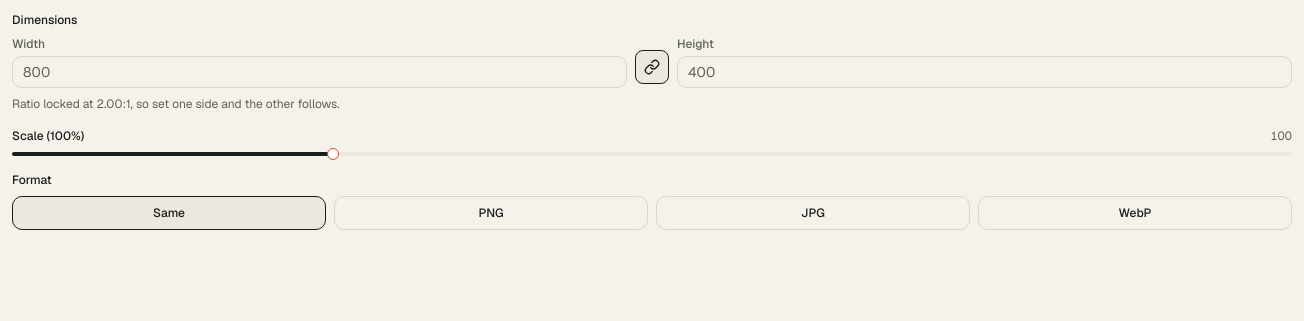
ResizeOptions › offers fit modes only when the ratio is free to change
This screenshot has width=1304, height=321.
Expected: the text "Fit" is not shown
Click the button named "Unlock aspect ratio": coordinates (652, 67) left=635, top=50, right=669, bottom=84
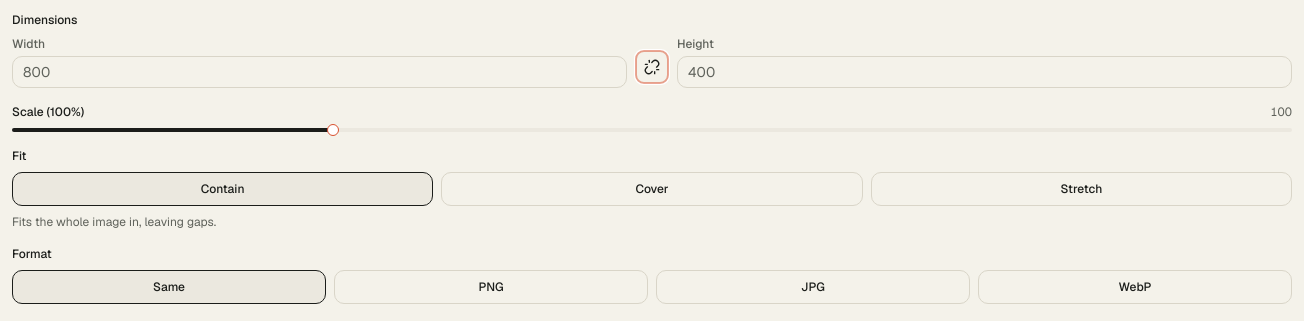
Result: the text "Fit" is shown at left=12, top=148, right=26, bottom=164
Result: the button "Contain" is shown at left=12, top=172, right=433, bottom=206
Result: the button "Cover" is shown at left=441, top=172, right=863, bottom=206
